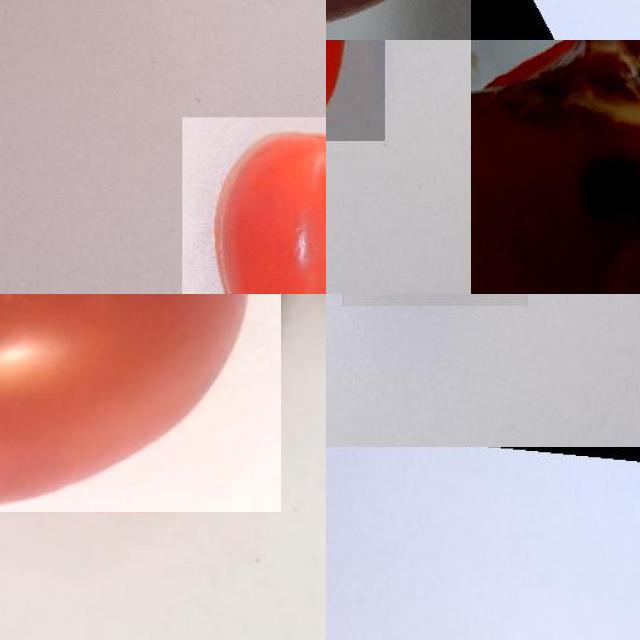0: (326, 40, 385, 140)
1: (471, 40, 640, 294)
Fresh Tomato: (0, 294, 281, 512), (182, 117, 326, 294)
